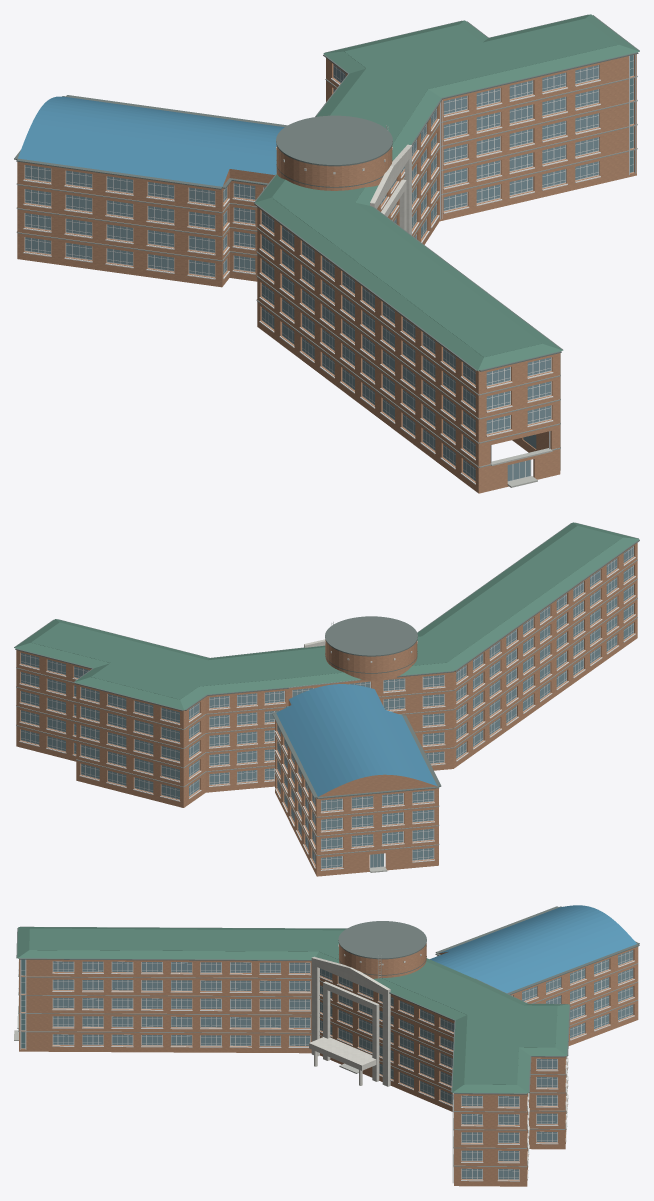
3 views of the same model, one above another, from view 1: azimuth 30°, elevation 25°; view 2: azimuth 150°, elevation 25°; view 3: azimuth 270°, elevation 25° (orthographic). The views are drawn at different scales.
Parts seen in each view (by area): view 1: main__brick, main__green-roof, main__glass, main__frame, main__blue-roof, main__roofcap, main__band, main__stone; view 2: main__brick, main__green-roof, main__glass, main__frame, main__blue-roof, main__roofcap, main__band; view 3: main__brick, main__green-roof, main__glass, main__frame, main__blue-roof, main__roofcap, main__stone, main__band, main__stairglass.
Part boxes in pixels (x1,y1,x2,y2): main__brick: [17, 54, 636, 493]; main__green-roof: [255, 14, 639, 370]; main__glass: [25, 65, 598, 481]; main__frame: [23, 54, 636, 484]; main__blue-roof: [18, 96, 284, 186]; main__roofcap: [14, 14, 639, 371]; main__band: [16, 76, 637, 467]; main__stone: [276, 144, 411, 235]; main__brick: [16, 543, 637, 876]; main__green-roof: [14, 522, 639, 710]; main__glass: [21, 546, 633, 868]; main__frame: [19, 546, 635, 870]; main__blue-roof: [276, 684, 436, 796]; main__roofcap: [14, 522, 639, 798]; main__band: [16, 559, 637, 855]; main__brick: [19, 943, 638, 1186]; main__green-roof: [17, 927, 569, 1093]; main__glass: [53, 950, 632, 1179]; main__frame: [18, 950, 634, 1183]; main__blue-roof: [430, 905, 636, 993]; main__roofcap: [16, 906, 639, 1094]; main__stone: [309, 944, 426, 1086]; main__band: [18, 958, 638, 1167]; main__stairglass: [21, 959, 25, 1048].
Size of the model in its own units: 82.32 by 22.35 by 106.
11 materials, 2 textured.
